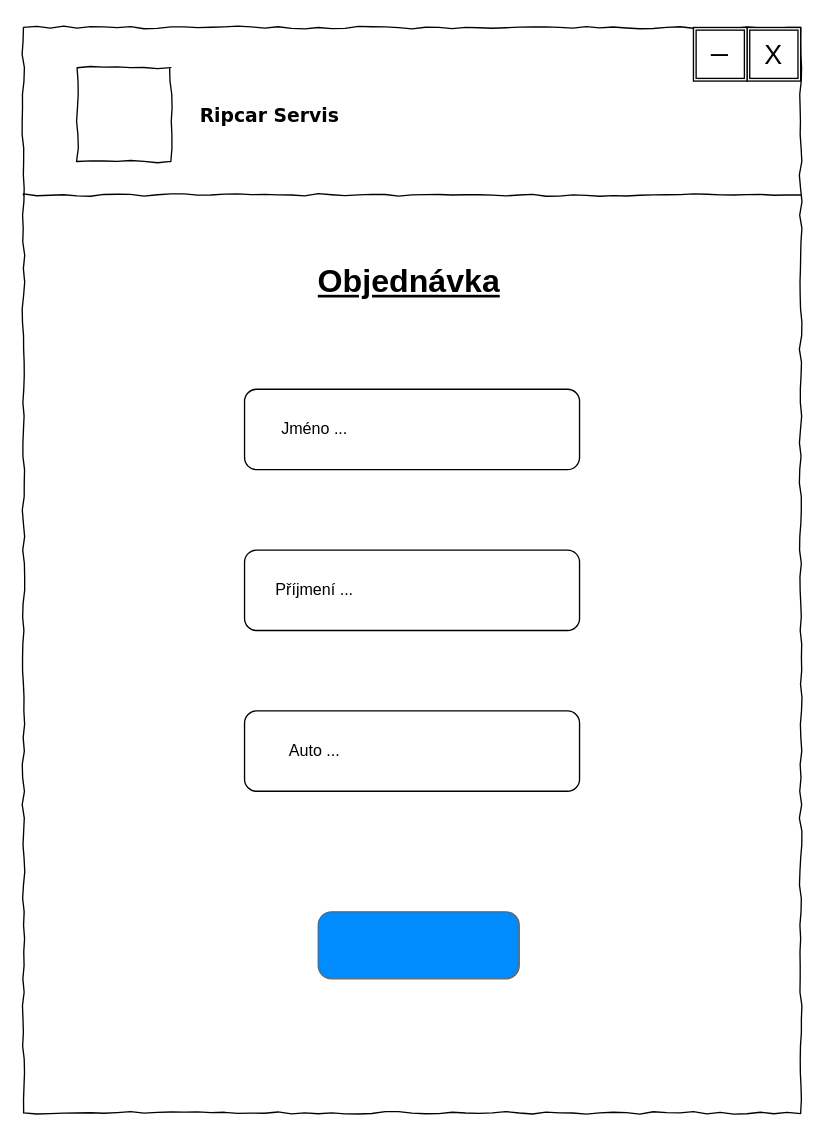
This 824x1136 diagram has some shape labels left out. Each missing label, with the box of its shape:
LOGO: (76, 66, 171, 161)
Potvrdit objednávku: (317, 931, 519, 959)
